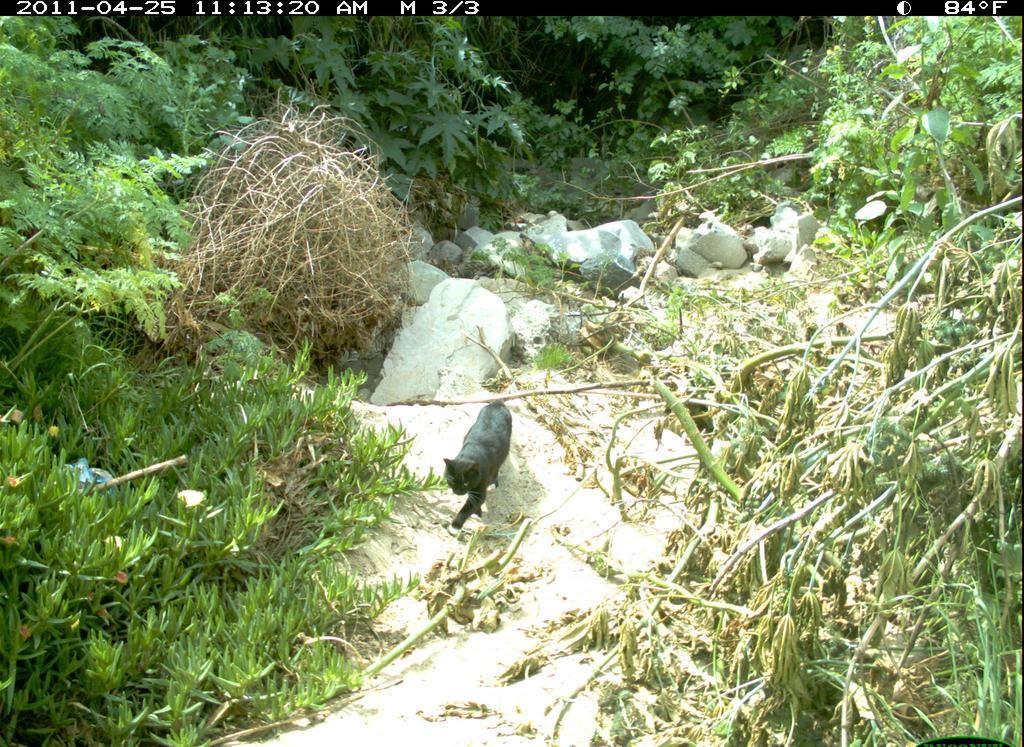cat: (437, 397, 521, 537)
